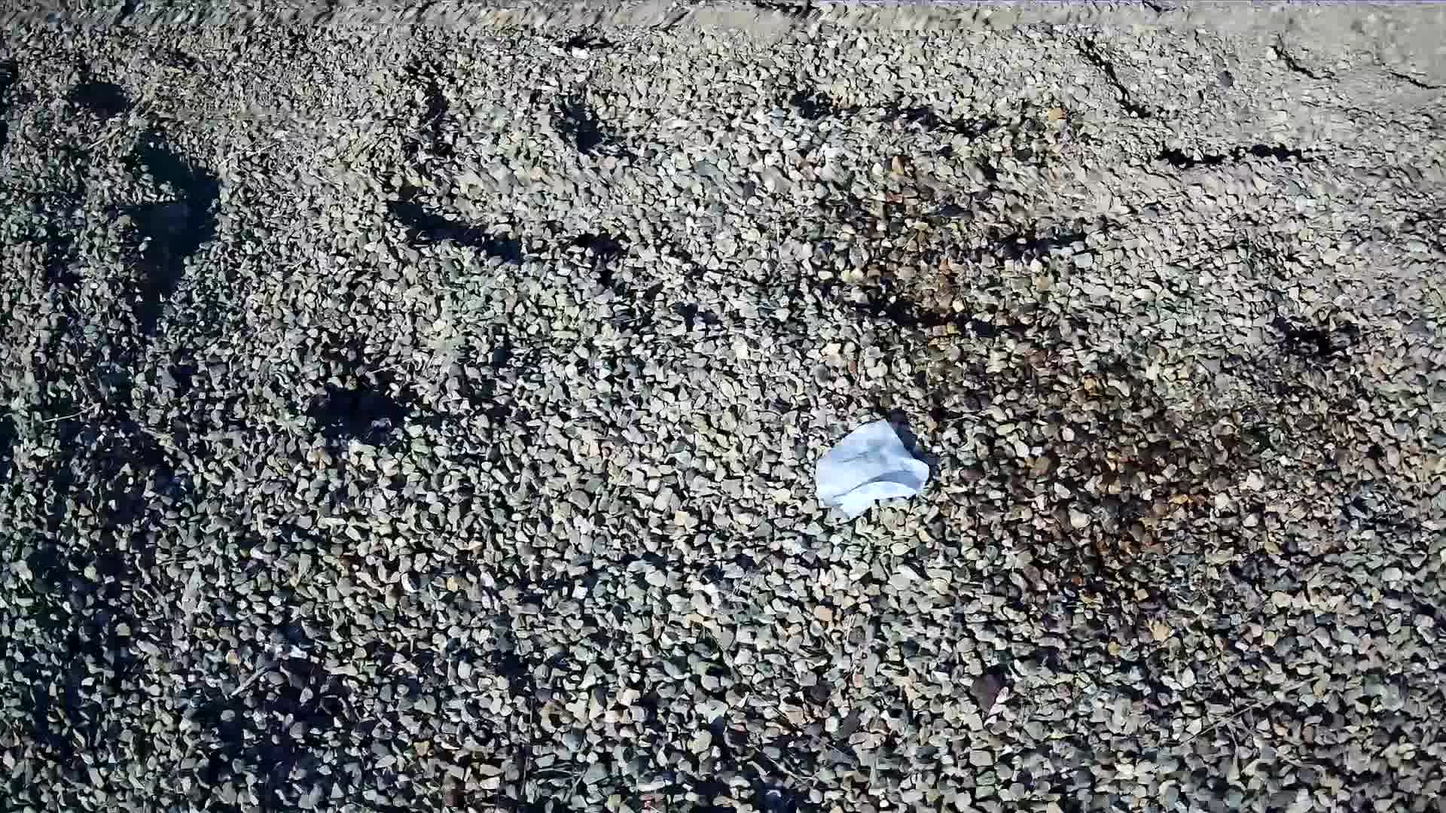Target: (815, 419, 931, 518)
